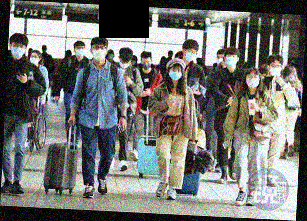with_mask: (9, 41, 26, 59), (91, 43, 107, 61), (167, 66, 184, 82), (269, 60, 282, 78), (245, 73, 260, 88), (184, 47, 198, 62), (224, 52, 238, 67), (119, 57, 131, 69), (140, 58, 152, 70), (74, 44, 85, 57), (28, 53, 39, 65), (214, 54, 225, 66), (106, 49, 115, 60), (130, 56, 137, 65)
